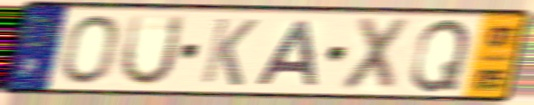A: (253, 19, 322, 88)
K: (197, 15, 261, 89)
O: (58, 12, 121, 87)
Q: (407, 17, 474, 95)
U: (116, 12, 188, 89)
X: (336, 15, 415, 95)
